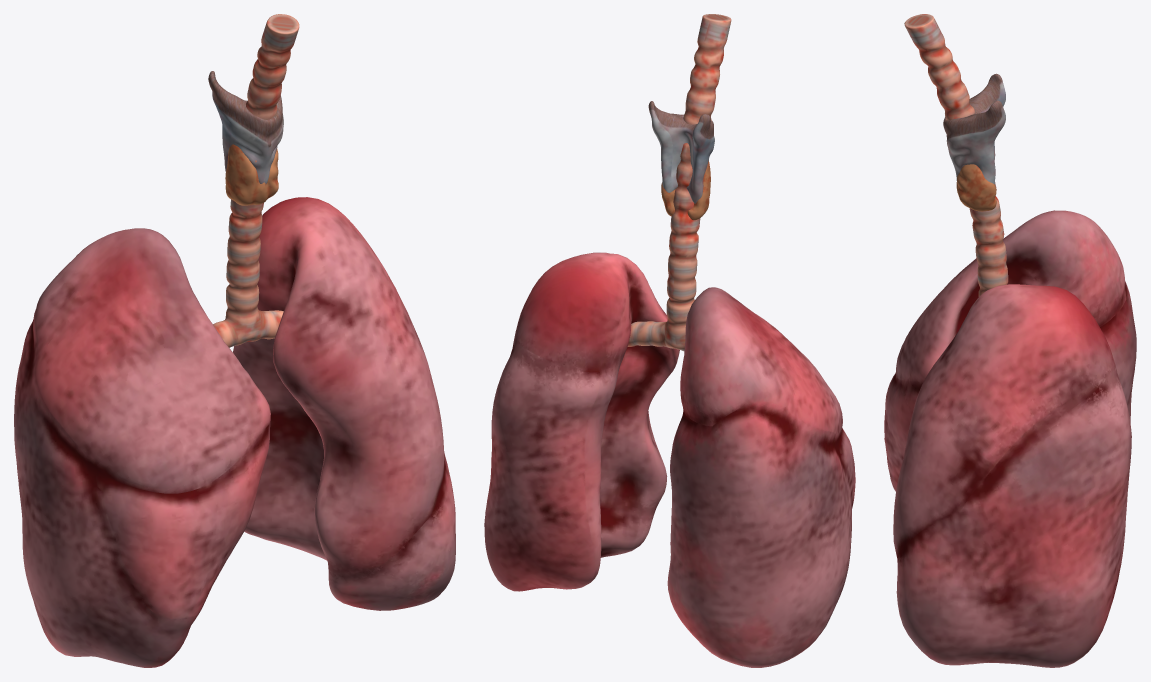
Rendered from lung.glb.
3 renders of one model, left to right at view 1: azimuth 30°, elevation 25°; view 2: azimuth 150°, elevation 25°; view 3: azimuth 270°, elevation 25°, orthographic. The views are drawn at different scales.
Visible parts, largest first — view 1: thairoid01:low_part02_Group6344:Group24638_thairoid01:lungh_, thairoid01:low_part01_Group6344:Group18522_thairoid01:lungh_; view 2: thairoid01:low_part02_Group6344:Group24638_thairoid01:lungh_, thairoid01:low_part01_Group6344:Group18522_thairoid01:lungh_; view 3: thairoid01:low_part02_Group6344:Group24638_thairoid01:lungh_, thairoid01:low_part01_Group6344:Group18522_thairoid01:lungh_.
Boxes of the visible parts, <box> form: thairoid01:low_part02_Group6344:Group24638_thairoid01:lungh_: <box>14,197,455,667</box>; thairoid01:low_part01_Group6344:Group18522_thairoid01:lungh_: <box>208,14,299,347</box>; thairoid01:low_part02_Group6344:Group24638_thairoid01:lungh_: <box>484,252,855,667</box>; thairoid01:low_part01_Group6344:Group18522_thairoid01:lungh_: <box>627,14,731,351</box>; thairoid01:low_part02_Group6344:Group24638_thairoid01:lungh_: <box>884,210,1136,667</box>; thairoid01:low_part01_Group6344:Group18522_thairoid01:lungh_: <box>904,14,1008,296</box>.
Bounding box in the file's own units: 0.2233 × 0.3687 × 0.1423.
Materials: 2 (2 with a texture image).
